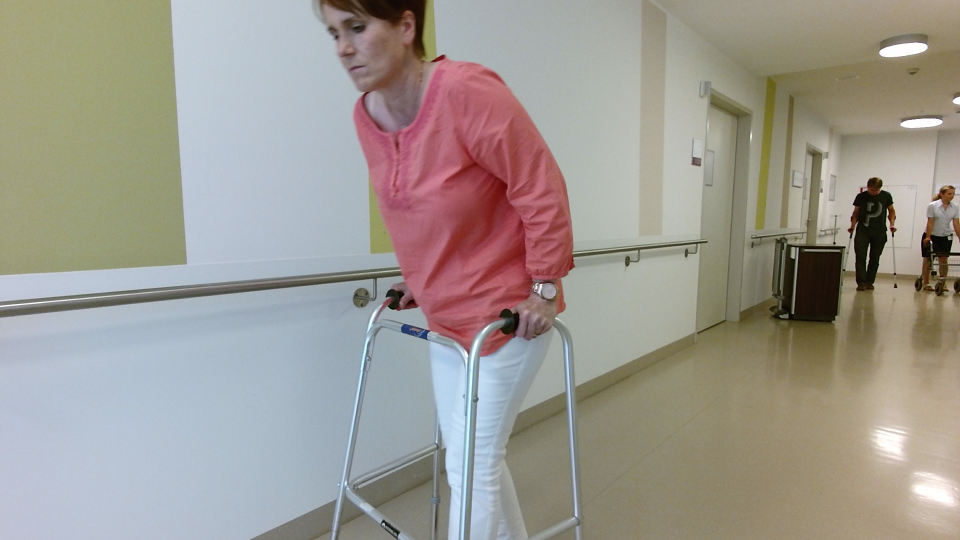crutches: (837, 177, 897, 294)
